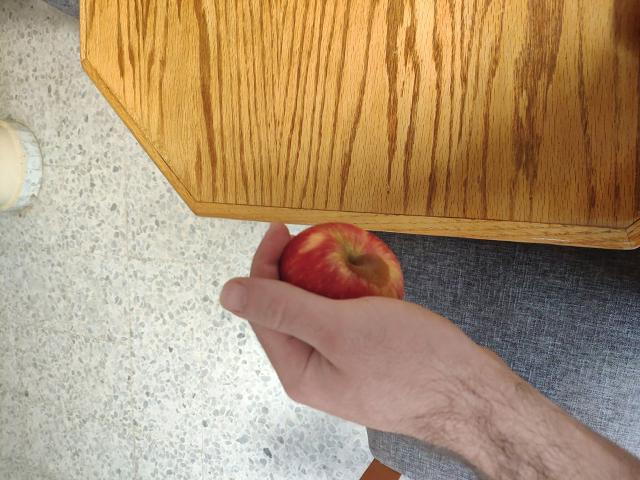apple: (274, 219, 419, 338)
